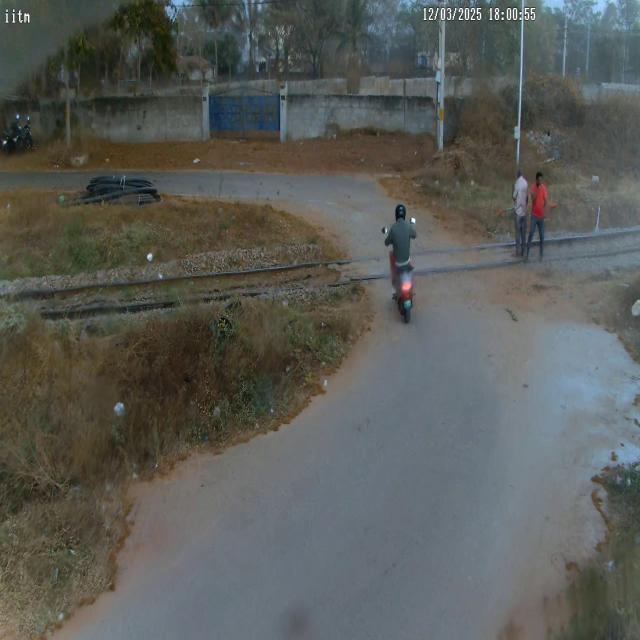objects: (382, 201, 420, 326), (508, 167, 528, 264), (533, 175, 549, 258)
